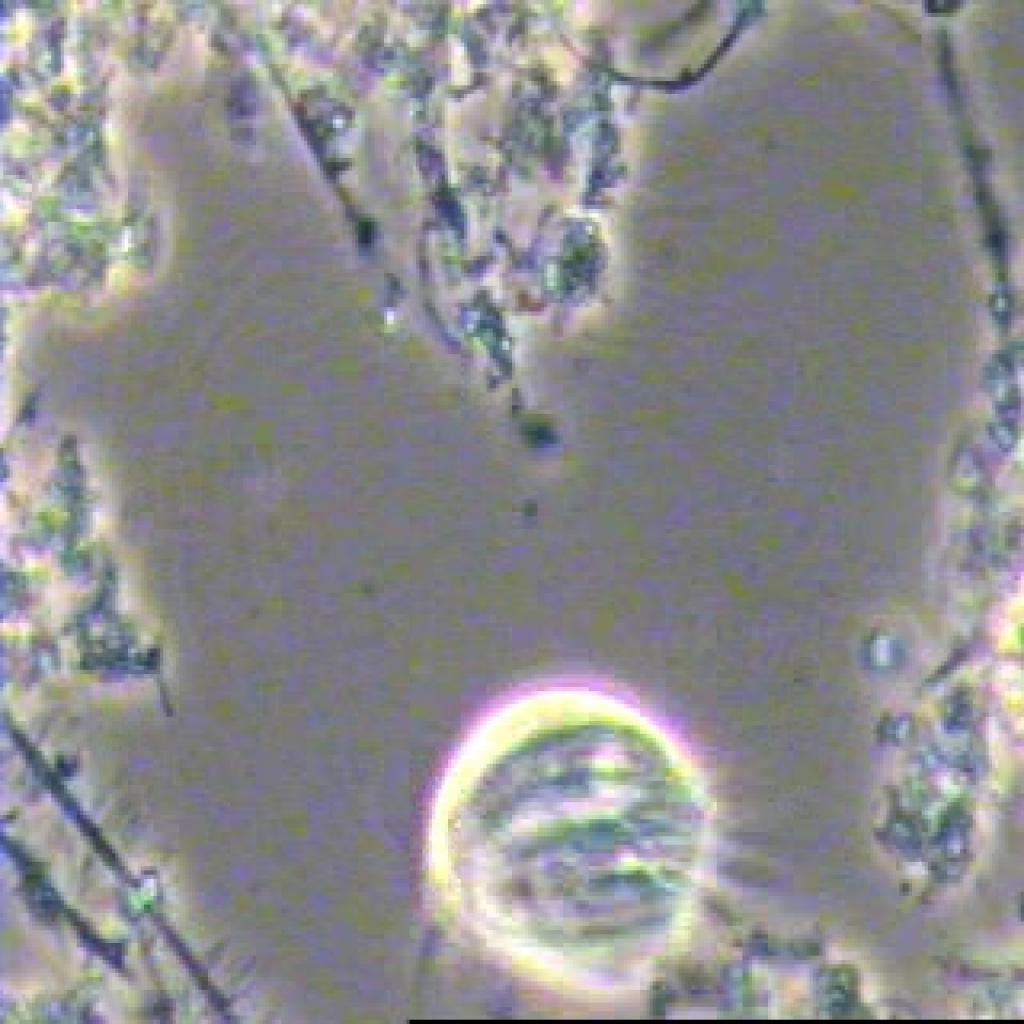Aspidisca: (353, 635, 776, 1024)
